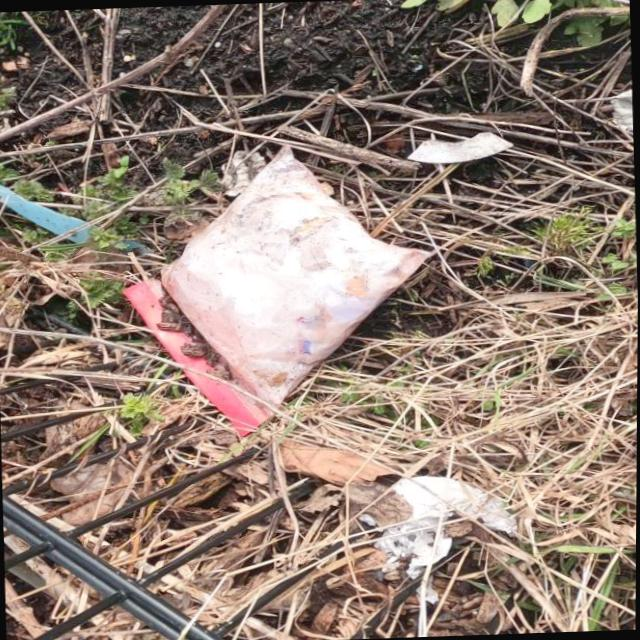Paper: (370, 470, 523, 606)
Plastic: (114, 132, 441, 442)
